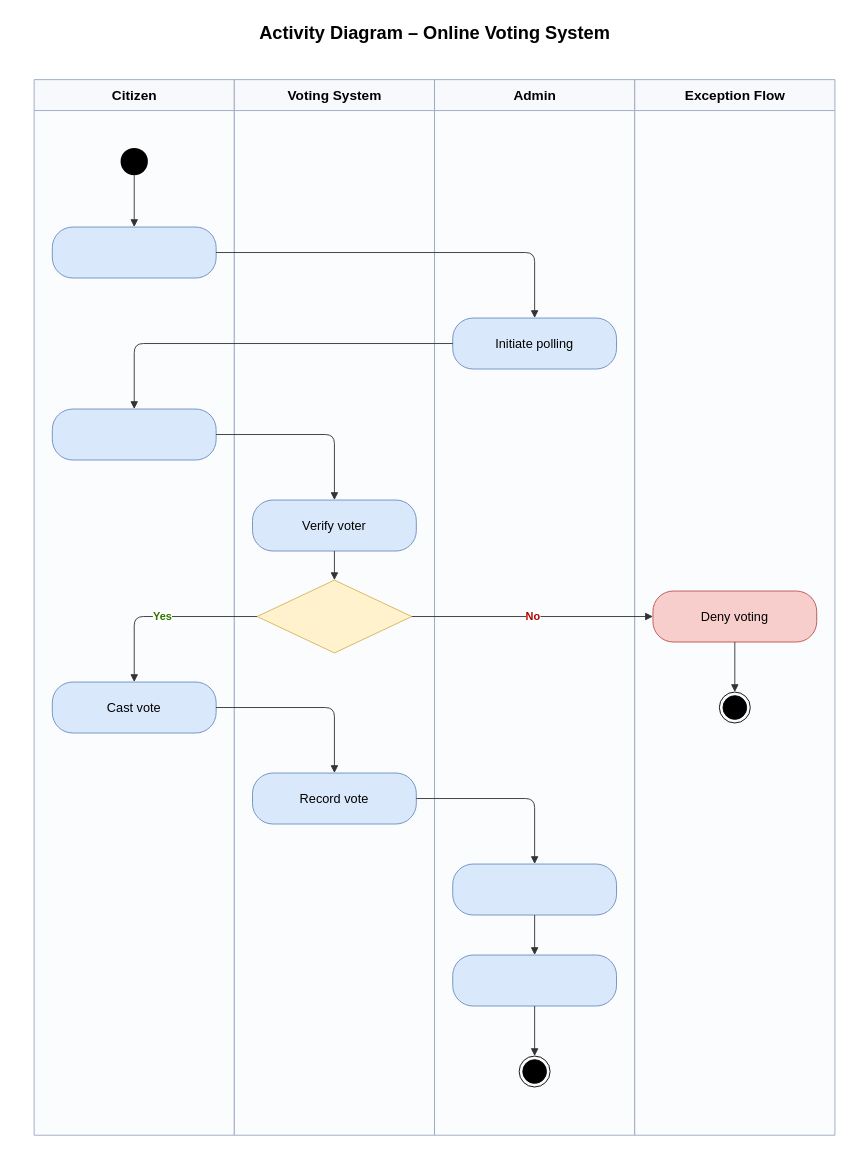
This 868x1151 diagram has some shape labels left out. The centre of each missing label's shape, as x and y in pixels:
Count votes: the point at 534,889
Eligible and not voted?: the point at 334,616
Login with voter ID: the point at 133,434
Publish result: the point at 534,980
Register citizen: the point at 133,252
